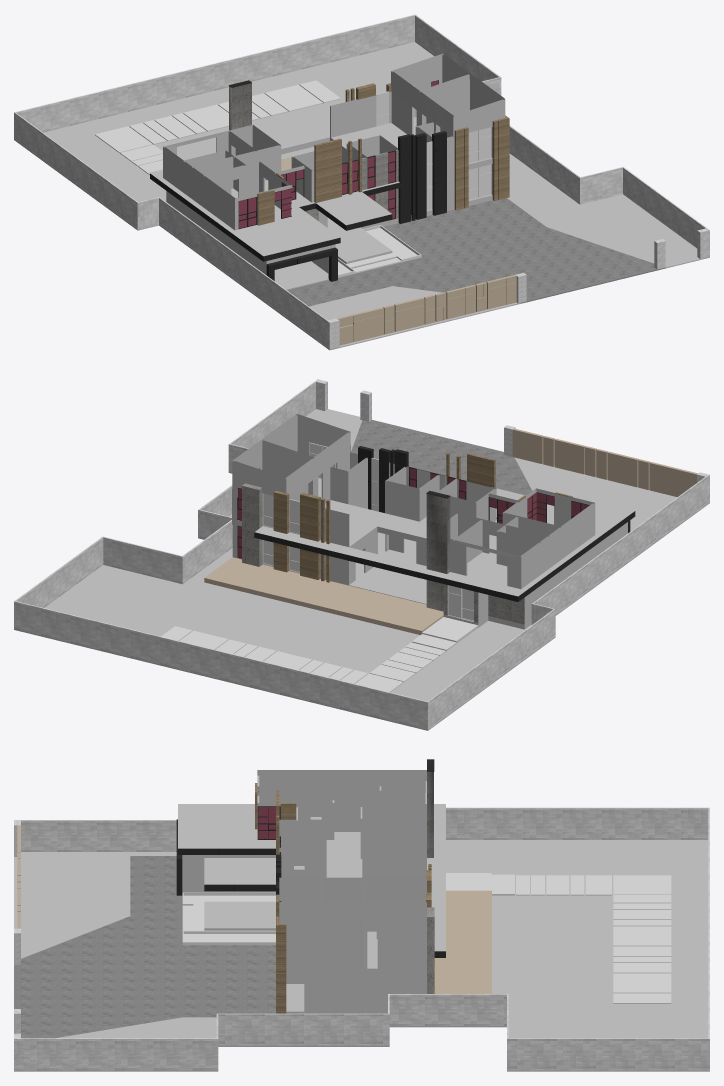
Rendered from MCHouse-Full_2.fbx.
3 views of the same model, one above another, from view 1: azimuth 30°, elevation 25°; view 2: azimuth 150°, elevation 25°; view 3: azimuth 270°, elevation 25° (orthographic). The views are drawn at different scales.
Visible parts, largest first — view 1: MCHouse-GrassFloor, MCHouse-WallOutside, Plane.003, Plane.004, MCHouse-WallDepan, MCHouse-StoneTaman1, MCHouse-WallAcc, Mesh305.001, MCHouse-Lantai1, Plane.025, MCHouse-Lantai1.001, MCHouse-Garasi (+2 smaller); view 2: MCHouse-GrassFloor, MCHouse-WallOutside, Plane.003, MCHouse-Lantai1, Plane.004, MCHouse-WallAcc, MCHouse-WallDepan, MCHouse-StoneTaman1, MCHouse-Lantai1.001, Mesh305.001, MCHouse-StoneTaman3, Plane.021; view 3: MCHouse-GrassFloor, MCHouse-WallOutside, Plane.003, Plane.004, MCHouse-StoneTaman1, MCHouse-Lantai1, MCHouse-Lantai1.001, MCHouse-WallAcc, MCHouse-PotKolamDepan.001, Plane.025, MCHouse-WallDepan, MCHouse-PotKolamDepan (+4 smaller).
Part boxes in pixels (box(x1,y1,x2,y2)): MCHouse-GrassFloor: box(14, 42, 709, 350); MCHouse-WallOutside: box(14, 14, 709, 349); Plane.003: box(163, 53, 505, 230); Plane.004: box(150, 117, 492, 261); MCHouse-WallDepan: box(328, 228, 708, 348); MCHouse-StoneTaman1: box(95, 80, 340, 175); MCHouse-WallAcc: box(229, 80, 391, 225); Mesh305.001: box(398, 131, 446, 223); MCHouse-Lantai1: box(274, 157, 492, 290); Plane.025: box(454, 115, 509, 210); MCHouse-Lantai1.001: box(166, 151, 492, 278); MCHouse-Garasi: box(266, 247, 337, 281); MCHouse-GrassFloor: box(14, 409, 709, 730); MCHouse-WallOutside: box(14, 379, 709, 729); Plane.003: box(232, 414, 595, 588); MCHouse-Lantai1: box(204, 532, 531, 634); Plane.004: box(232, 478, 635, 601); MCHouse-WallAcc: box(242, 453, 572, 611); MCHouse-WallDepan: box(316, 379, 708, 497); MCHouse-StoneTaman1: box(161, 626, 445, 692); MCHouse-Lantai1.001: box(232, 495, 627, 624); Mesh305.001: box(358, 446, 408, 512); MCHouse-StoneTaman3: box(422, 617, 478, 643); Plane.021: box(527, 492, 554, 522); MCHouse-GrassFloor: box(14, 840, 709, 1071); MCHouse-WallOutside: box(14, 807, 709, 1070); Plane.003: box(257, 770, 426, 968); Plane.004: box(178, 804, 445, 974); MCHouse-StoneTaman1: box(516, 875, 671, 1003); MCHouse-Lantai1: box(182, 890, 491, 1013); MCHouse-Lantai1.001: box(182, 855, 426, 1011); MCHouse-WallAcc: box(255, 759, 434, 993); MCHouse-PotKolamDepan.001: box(182, 930, 275, 945); Plane.025: box(276, 894, 286, 1013); MCHouse-WallDepan: box(14, 820, 20, 1038); MCHouse-PotKolamDepan: box(182, 892, 275, 905).
Bounding box in the file's own units: 4730 × 1310 × 6012.
